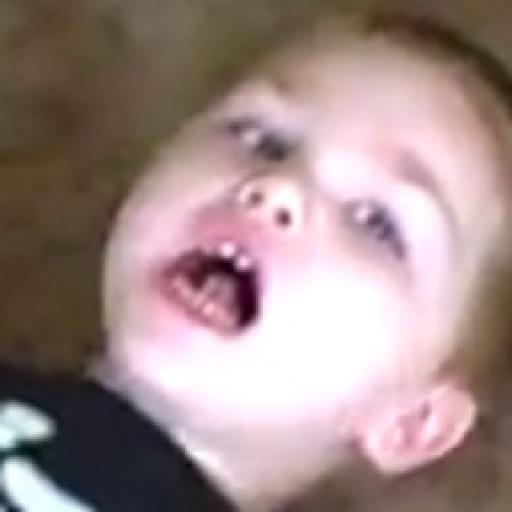Autism: (52, 30, 512, 500)
